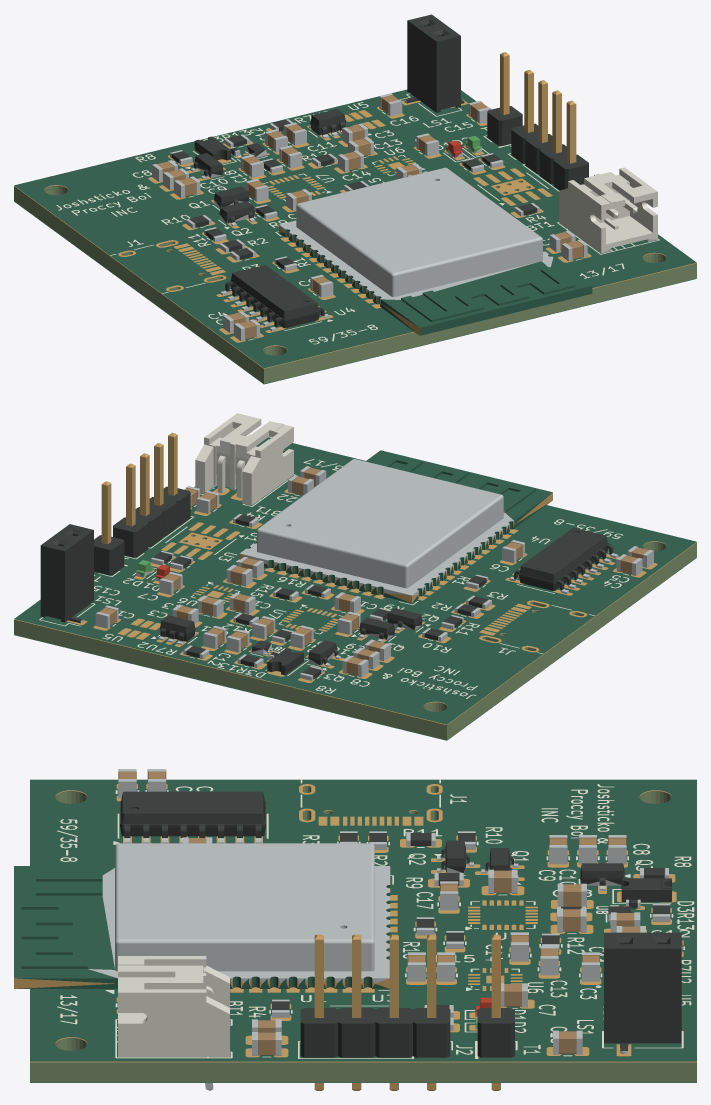
File: dash-prototype.glb
3 renders of one model, top to bottom at view 1: azimuth 30°, elevation 25°; view 2: azimuth 150°, elevation 25°; view 3: azimuth 270°, elevation 25°, orthographic. The views are drawn at different scales.
Visible parts, largest first — view 1: part_board, part_U3, part_BT1, part_J2, part_LS1, part_U4, part_T1, part_U2, part_Q2, part_D3, part_Q3; view 2: part_board, part_U3, part_BT1, part_J2, part_LS1, part_U4, part_T1, part_U2, part_D3, part_Q1, part_Q2, part_Q3; view 3: part_board, part_U3, part_BT1, part_J2, part_LS1, part_U4, part_T1, part_D3, part_Q3, part_Q2, part_C23, part_C19 (+14 smaller).
Part boxes in pixels (box(x1,y1,x2,y2)): part_board: box(14, 89, 696, 384); part_U3: box(279, 167, 592, 335); part_BT1: box(559, 167, 657, 253); part_J2: box(511, 70, 588, 190); part_LS1: box(404, 14, 464, 112); part_U4: box(220, 265, 329, 331); part_T1: box(487, 52, 522, 145); part_U2: box(309, 109, 345, 138); part_Q2: box(219, 201, 254, 226); part_D3: box(194, 136, 231, 160); part_Q3: box(190, 153, 223, 179); part_board: box(14, 437, 696, 740); part_U3: box(239, 450, 552, 603); part_BT1: box(195, 413, 293, 505); part_J2: box(113, 432, 190, 557); part_LS1: box(40, 524, 93, 623); part_U4: box(509, 527, 618, 594); part_T1: box(94, 481, 124, 575); part_U2: box(158, 615, 196, 644); part_D3: box(267, 648, 303, 675); part_Q1: box(359, 617, 394, 642); part_Q2: box(387, 608, 422, 630); part_Q3: box(308, 640, 340, 666); part_board: box(30, 779, 696, 1082); part_U3: box(14, 843, 390, 988); part_BT1: box(118, 956, 229, 1090); part_J2: box(300, 934, 450, 1090); part_LS1: box(604, 932, 681, 1053); part_U4: box(120, 791, 265, 843); part_T1: box(477, 934, 514, 1090); part_D3: box(621, 878, 671, 901); part_Q3: box(580, 863, 624, 890); part_Q2: box(437, 840, 473, 872); part_C23: box(252, 1032, 281, 1055); part_C19: box(557, 908, 586, 932).
Size of the model in its own units: 45.2 by 11.94 by 46.29.
